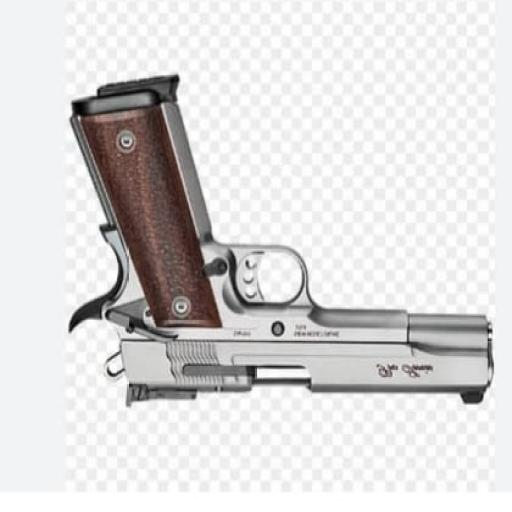Gun: (69, 75, 491, 403)
